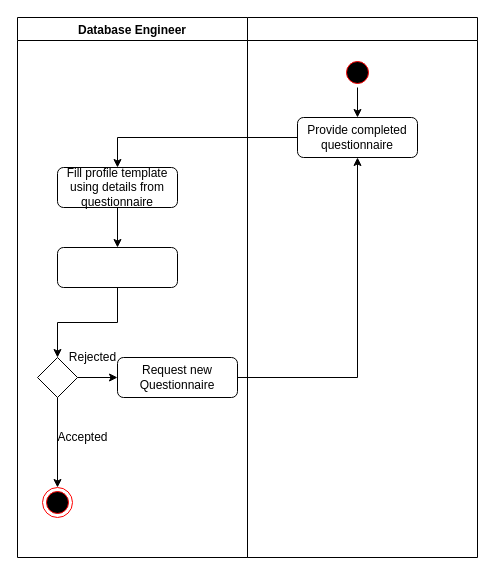
This 495x575 diagram has some shape labels left out. Each missing label, with the box of its shape:
Add new profile to database.: (56, 246, 178, 288)
Relationship Manager: (246, 16, 478, 558)
